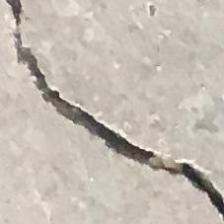Crack: (5, 0, 223, 222)
